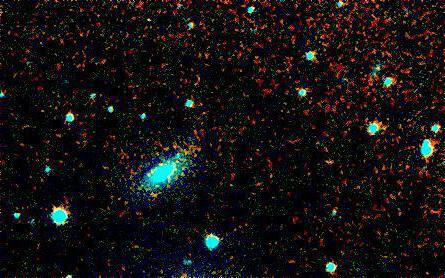star: (135, 4, 165, 34)
